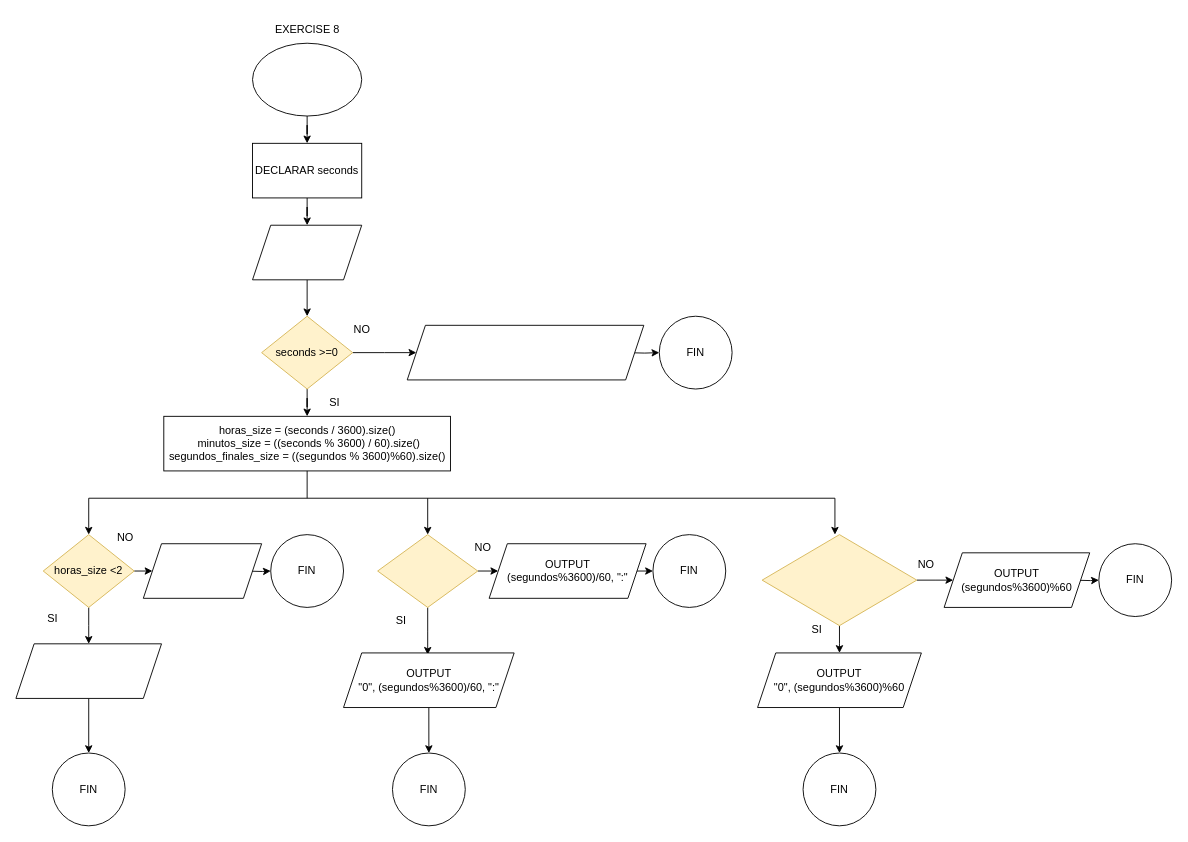
This 1188x842 diagram has some shape labels left out. Here are the shapes that lost their labels. From the top down, the box of each, then its label:
(252, 42, 362, 116): INICIO
(252, 224, 362, 280): INPUT seconds
(406, 324, 644, 380): OUTPUT "Error: Input seconds cannot be negative."
(142, 543, 262, 598): OUTPUT seconds/3600, ":"
(377, 534, 478, 607): minutos_size <2
(761, 534, 917, 626): segundos_finales_size < 2
(15, 643, 162, 698): OUTPUT "0", seconds / 3600, ":"
